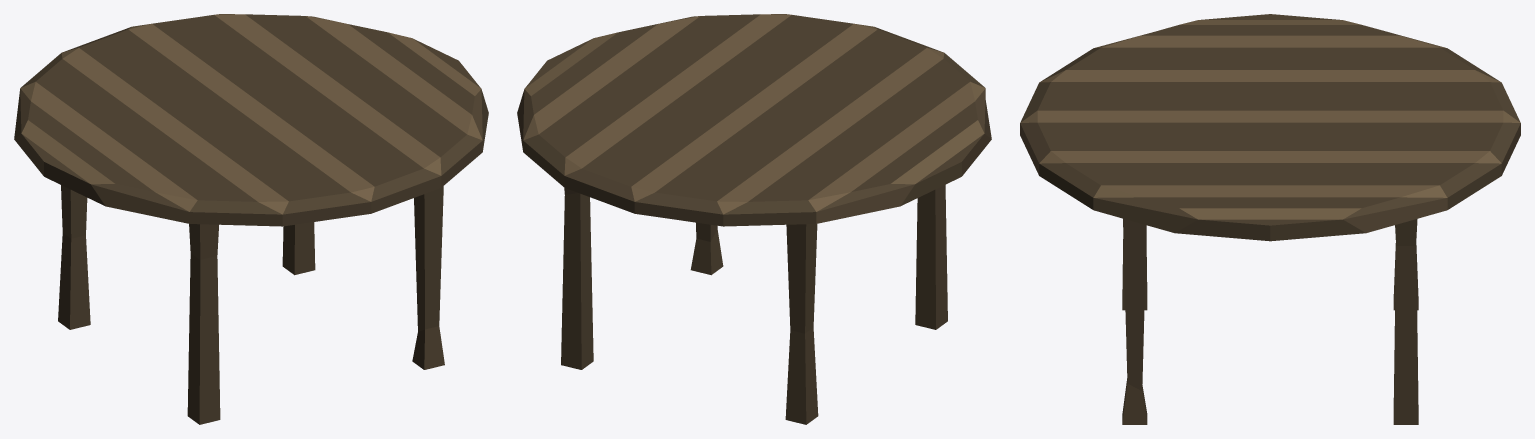
File: Table_2_Brown.fbx
3 renders of one model, left to right at view 1: azimuth 30°, elevation 25°; view 2: azimuth 150°, elevation 25°; view 3: azimuth 270°, elevation 25°, orthographic. The views are drawn at different scales.
Visible parts, largest first — view 1: Table_2_Brown_Part_1, Table_2_Brown_Part_2; view 2: Table_2_Brown_Part_1, Table_2_Brown_Part_2; view 3: Table_2_Brown_Part_1, Table_2_Brown_Part_2.
Boxes of the visible parts, x1,y1,x2,y2 form: Table_2_Brown_Part_1: (14, 14, 488, 424); Table_2_Brown_Part_2: (20, 14, 482, 214); Table_2_Brown_Part_1: (517, 14, 991, 424); Table_2_Brown_Part_2: (523, 14, 985, 214); Table_2_Brown_Part_1: (1020, 14, 1520, 424); Table_2_Brown_Part_2: (1020, 20, 1520, 219).
Size of the model in its own units: 240 by 130 by 240.
